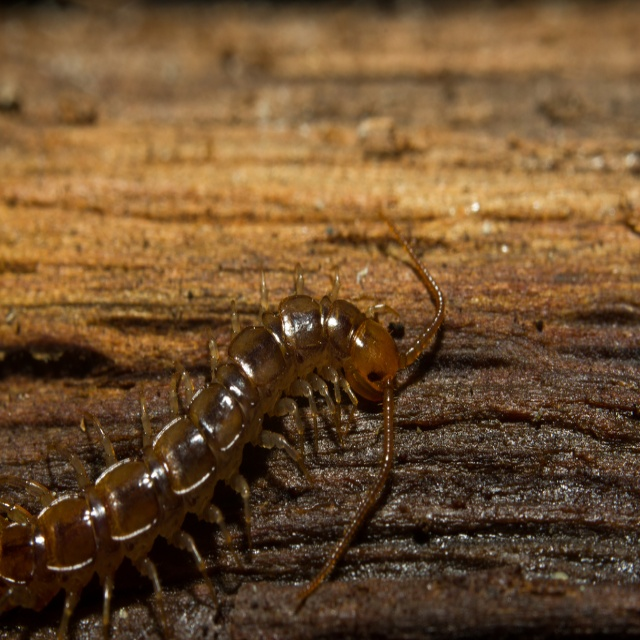Centipede: (0, 213, 445, 639)
